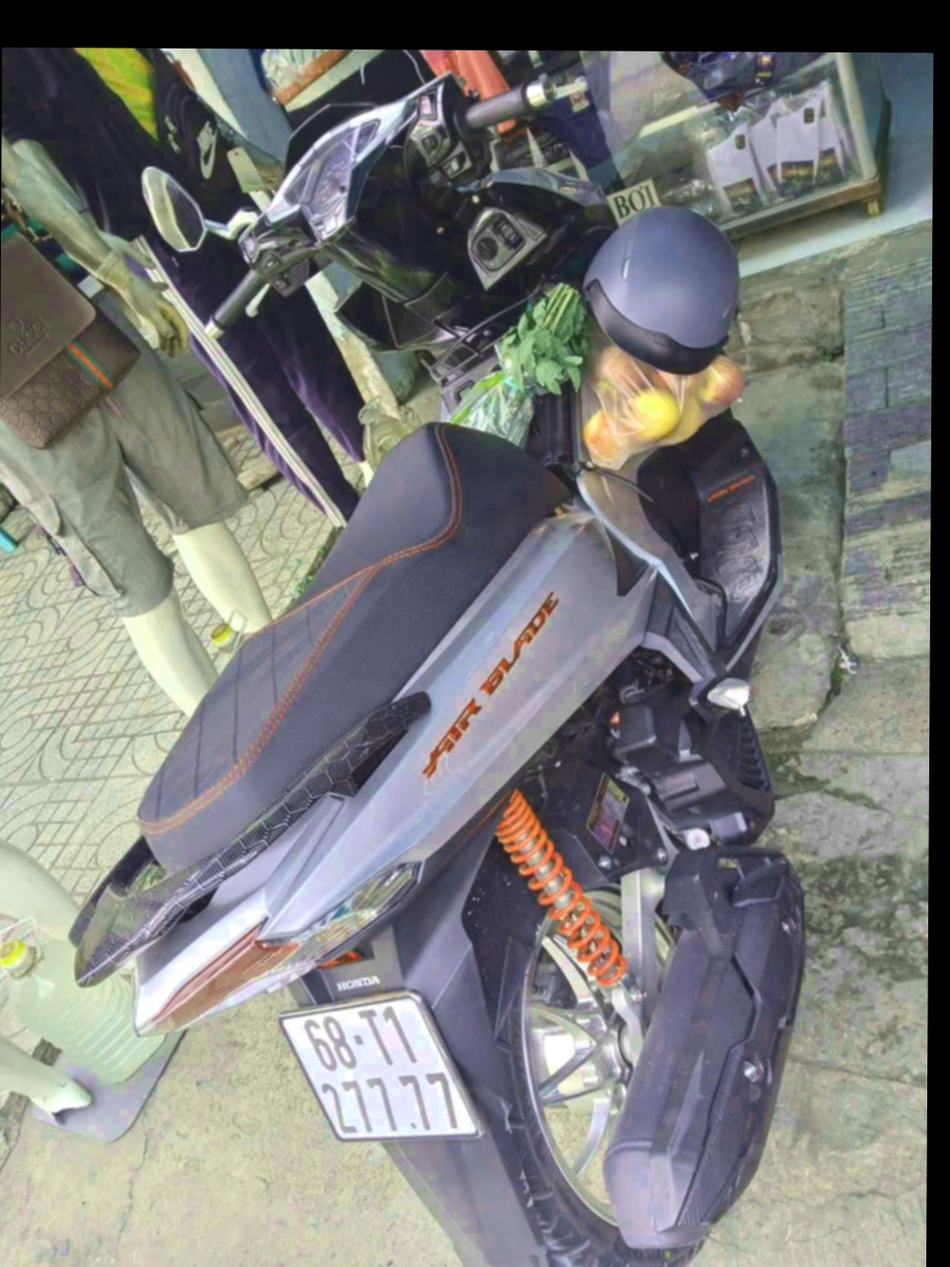Bien-so: (274, 985, 495, 1144)
